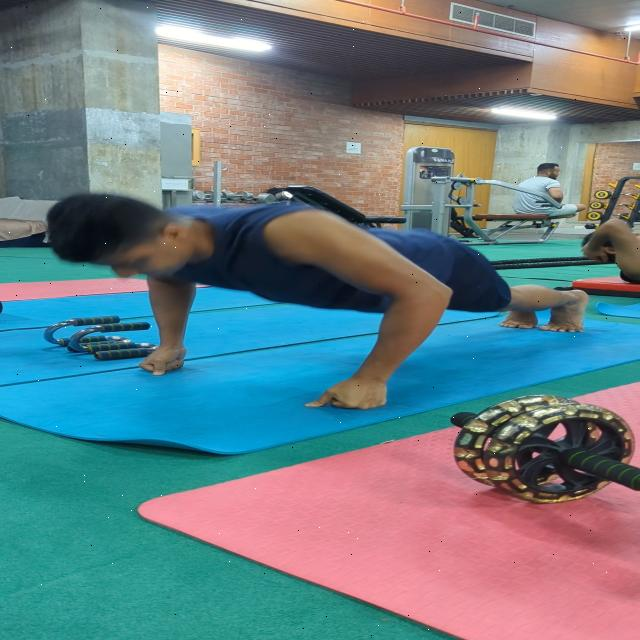Normal_PushUps: (38, 197, 596, 413)
